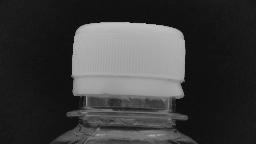Loose Cap: (61, 67, 199, 125)
